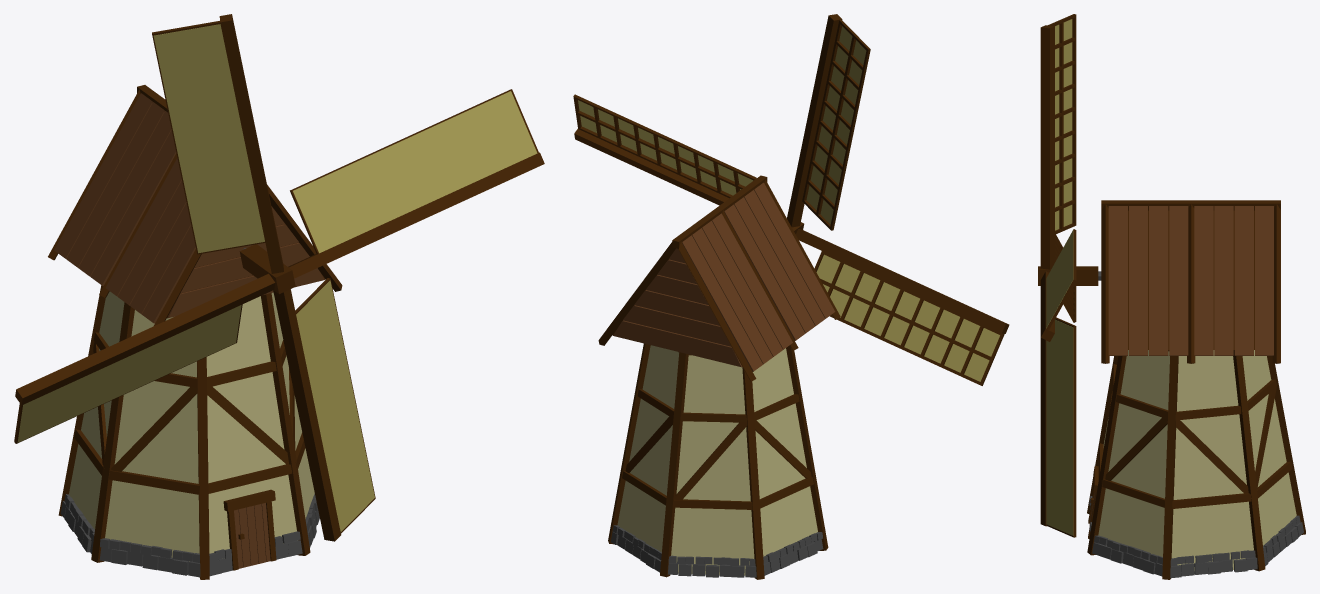
File: Mill.fbx
3 renders of one model, left to right at view 1: azimuth 30°, elevation 25°; view 2: azimuth 150°, elevation 25°; view 3: azimuth 270°, elevation 25°, orthographic. The views are drawn at different scales.
Visible parts, largest first — view 1: Building.001, Mill.001; view 2: Building.001, Mill.001; view 3: Building.001, Mill.001.
Part boxes in pixels (x1,y1,x2,y2): Building.001: (48,85,342,579); Mill.001: (14,14,544,541); Building.001: (598,175,840,579); Mill.001: (573,14,1009,385); Building.001: (1087,200,1305,579); Mill.001: (1038,14,1101,537).
Bounding box in the file's own units: 2100 × 2233 × 1116.
